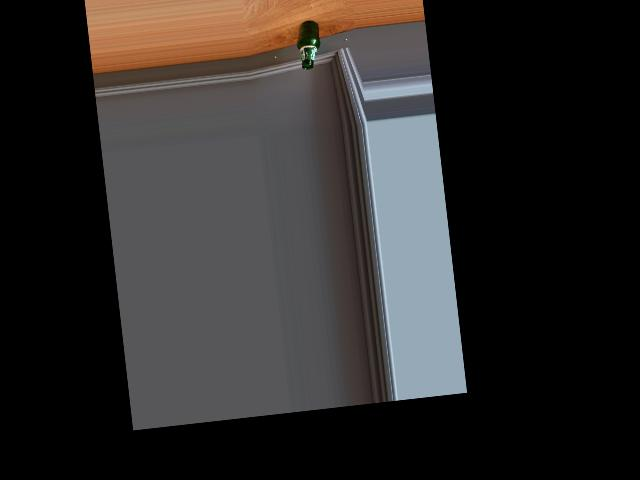beer: (294, 19, 323, 70)
